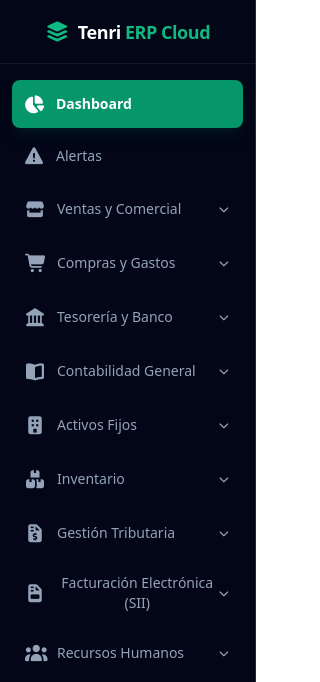
Test: BarraLateral › permite abrir y cerrar manualmente un grupo con submenu
Click the button "Inventario": (128, 479) [12, 454, 243, 504]
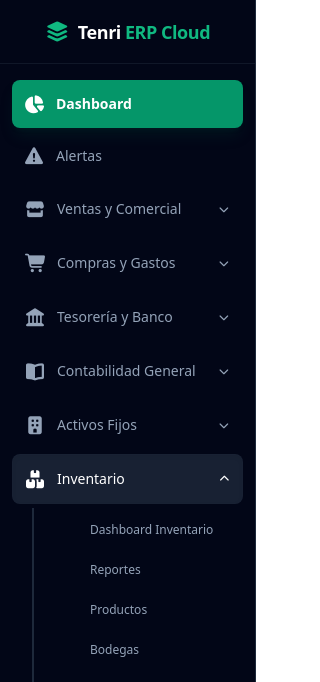
Result: the button "Inventario" is expanded
Click the button "Inventario": (128, 479) [12, 454, 243, 504]
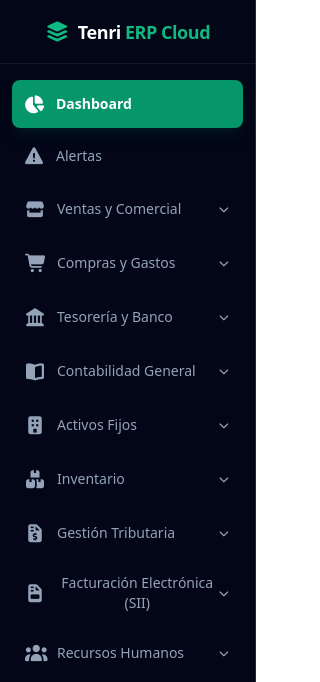
Result: the button "Inventario" is collapsed at [12, 454, 243, 504]
